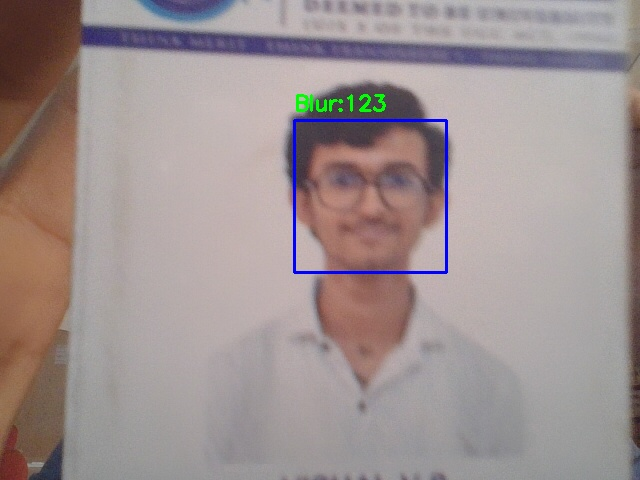fake: (294, 120, 446, 272)
